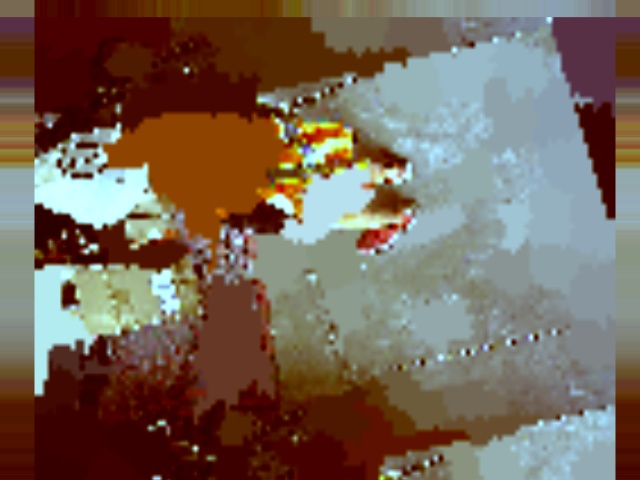one: (53, 140, 110, 182)
